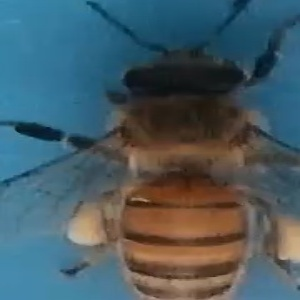bee: (15, 3, 300, 300)
